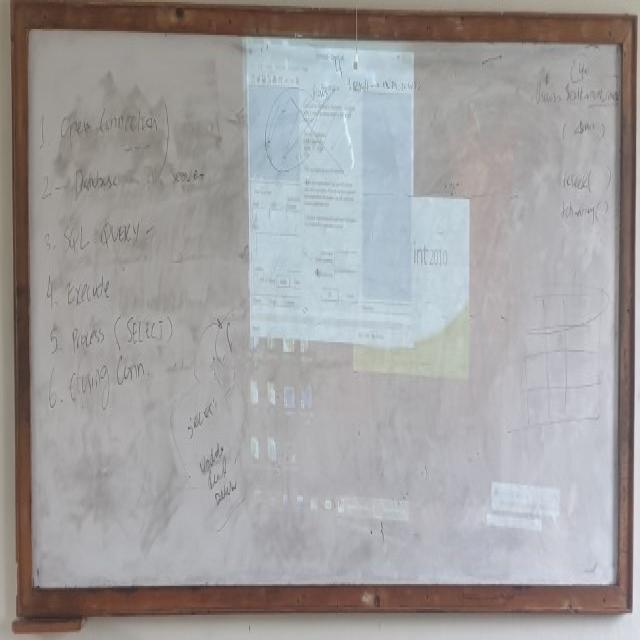Slide: (242, 17, 595, 566)
White-board: (22, 7, 631, 602)
